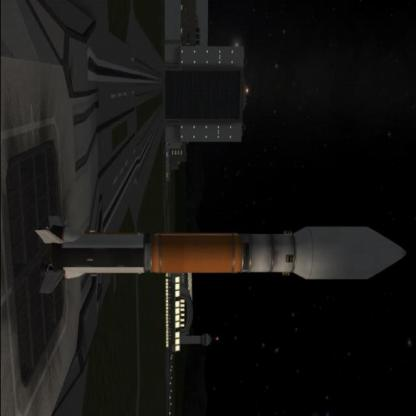MIL_TBM: (69, 224, 416, 286)
